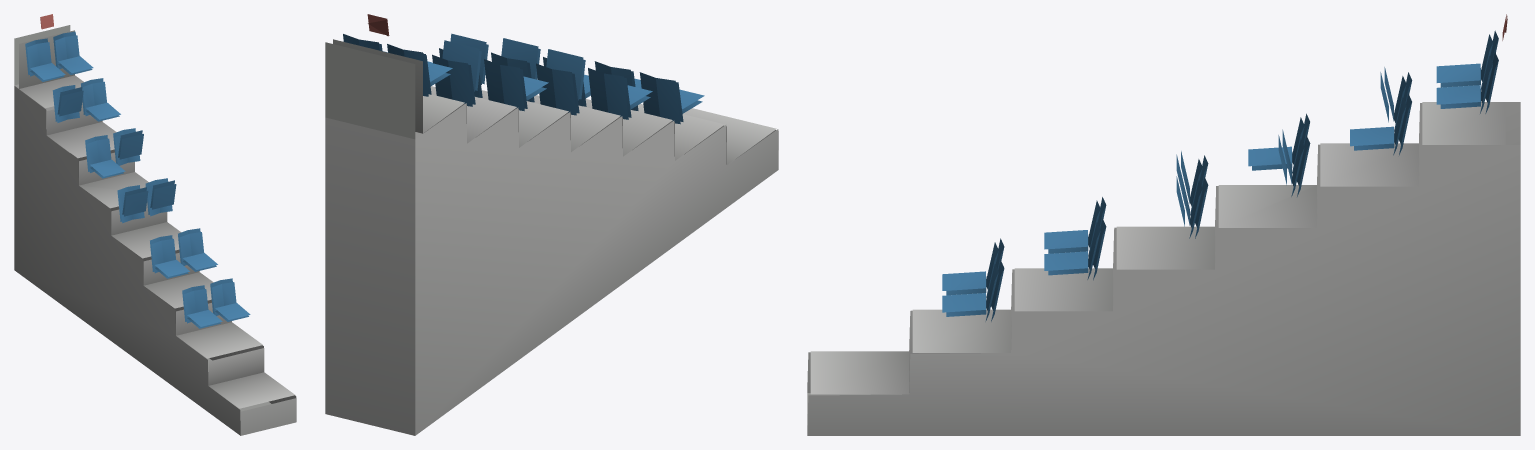
File: stand.lod.glb
3 renders of one model, left to right at view 1: azimuth 30°, elevation 25°; view 2: azimuth 150°, elevation 25°; view 3: azimuth 270°, elevation 25°, orthographic. The views are drawn at different scales.
Visible parts, largest first — view 1: stand; view 2: stand; view 3: stand.
Part boxes in pixels (left/top/right/bottom): stand: left=14, top=14, right=296, bottom=435; stand: left=325, top=14, right=778, bottom=435; stand: left=807, top=14, right=1520, bottom=435.
Size of the model in its own units: 1 by 4.28 by 7.
